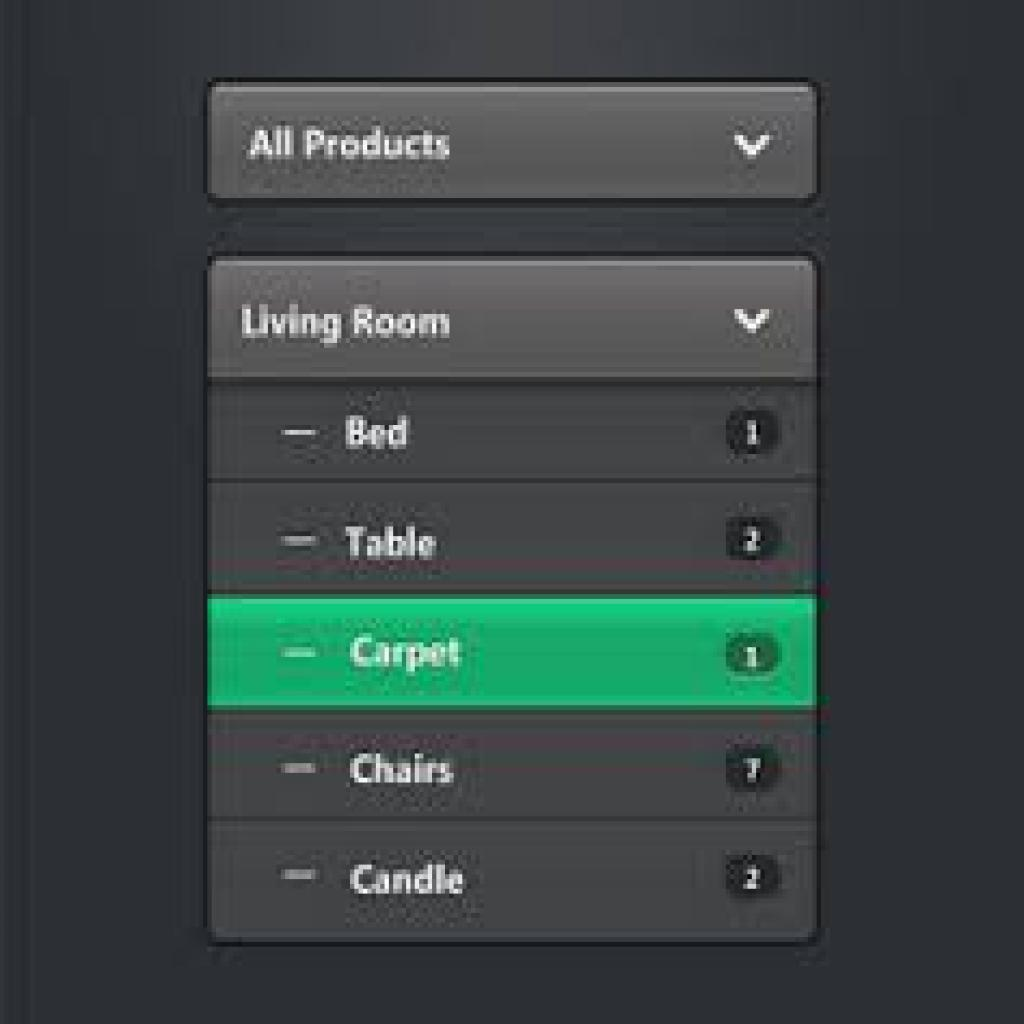button: (211, 597, 816, 710)
dropdown: (210, 256, 820, 387), (208, 85, 820, 206)
